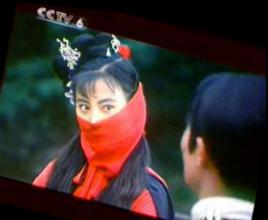WRONG: (68, 78, 138, 159)
